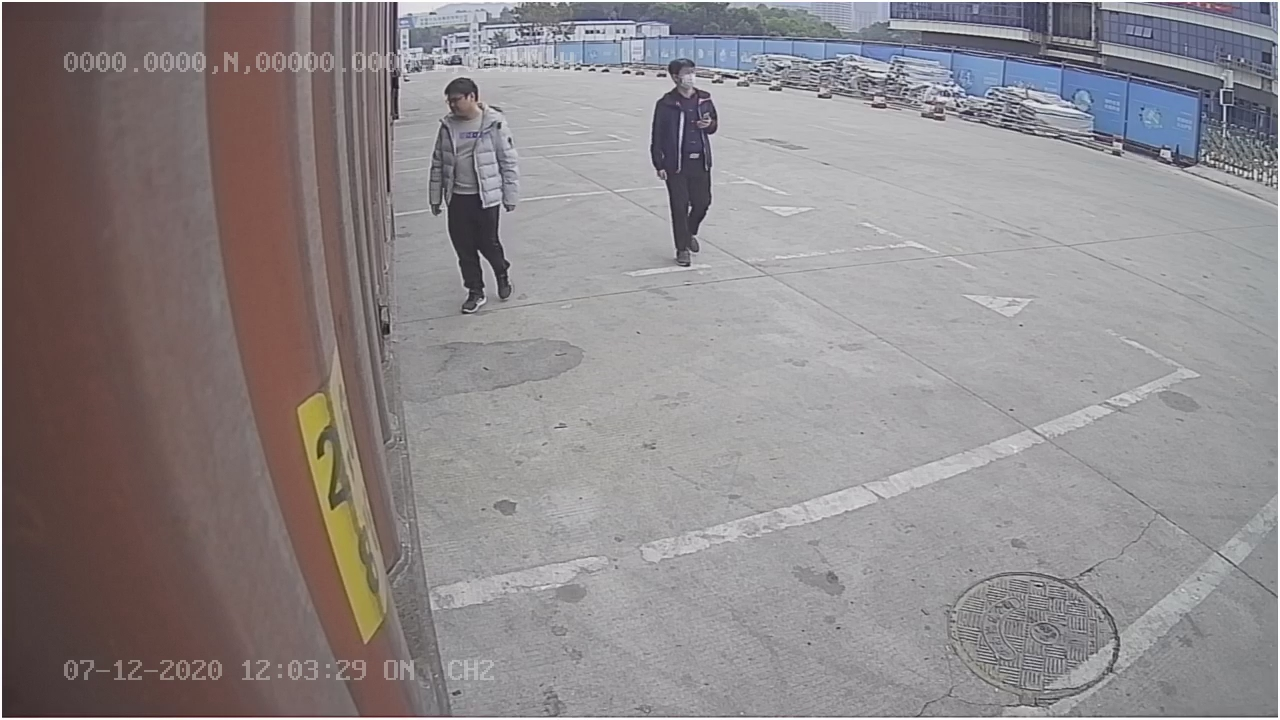person: (420, 74, 521, 317)
